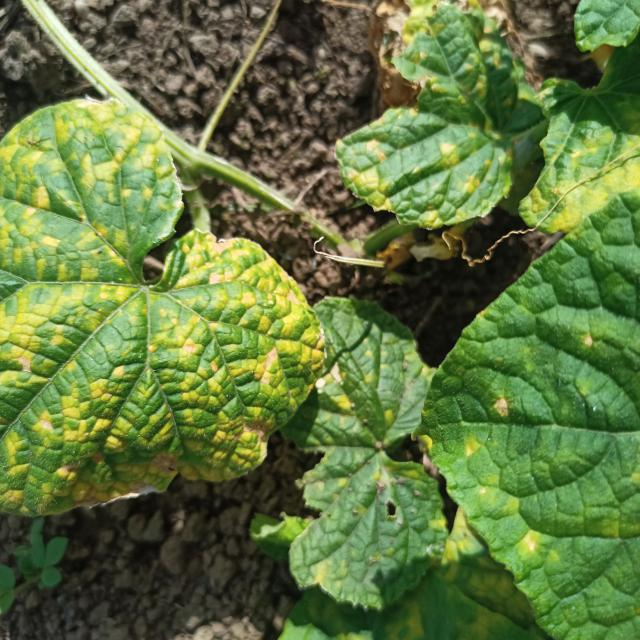disease_cucumber: (1, 104, 310, 510)
